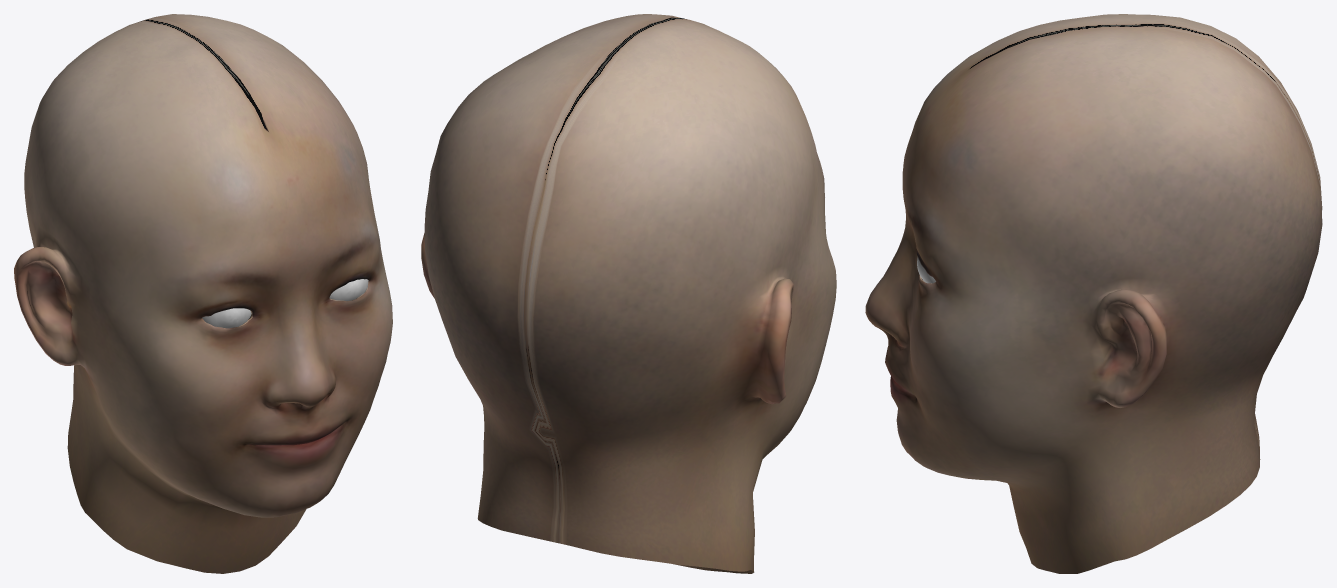
The model's file is head.fbx.
The picture shows the model from 3 angles, left to right: view 1: azimuth 30°, elevation 25°; view 2: azimuth 150°, elevation 25°; view 3: azimuth 270°, elevation 25°; orthographic projection. The views are drawn at different scales.
Visible parts, largest first — view 1: head; view 2: head; view 3: head.
Boxes of the visible parts, x1,y1,x2,y2 form: head: (14, 14, 392, 573); head: (421, 14, 836, 573); head: (865, 14, 1322, 573).
Size of the model in its own units: 17.08 by 24.94 by 19.5.
2 materials, 1 textured.
